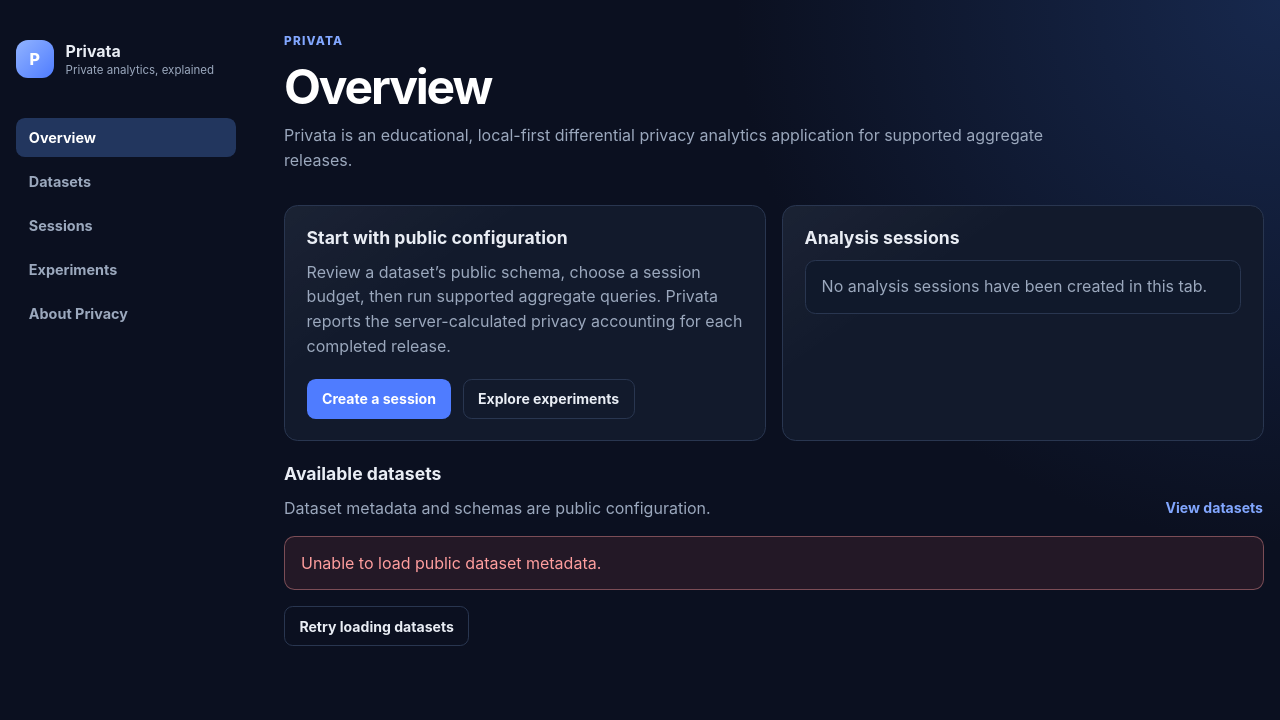
Privata frontend › retries a failed overview dataset load
Check: the message reads "Unable to load public dataset metadata.", box [301,553,601,573]
Click the button "Retry loading datasets" at coordinates (377, 626), box [284,606,469,646]
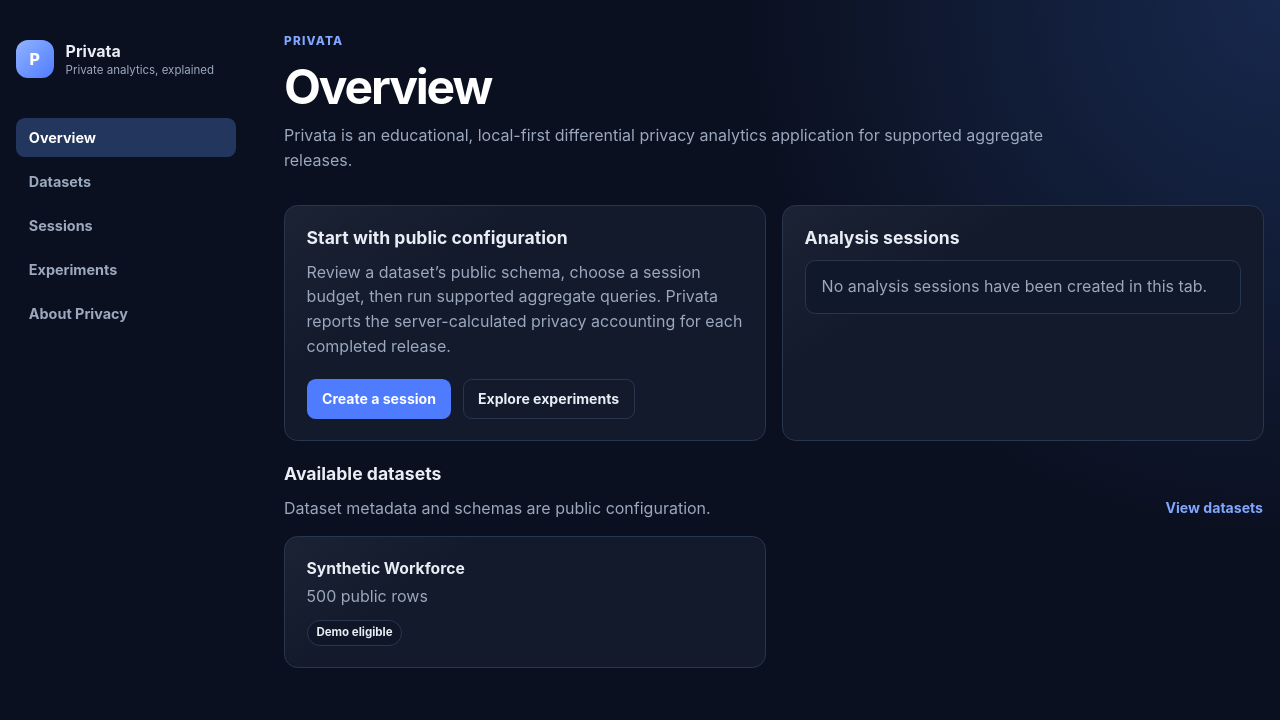
Check: the heading "Synthetic Workforce" is shown, box [307,559,465,578]
